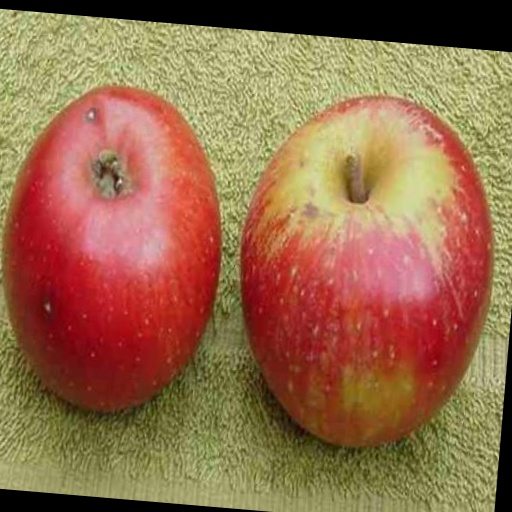fruit: (240, 97, 492, 446), (2, 87, 220, 410)
